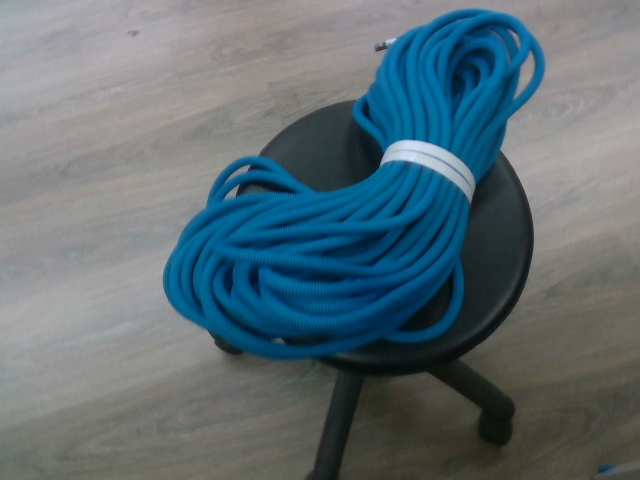rope: (161, 7, 547, 362)
